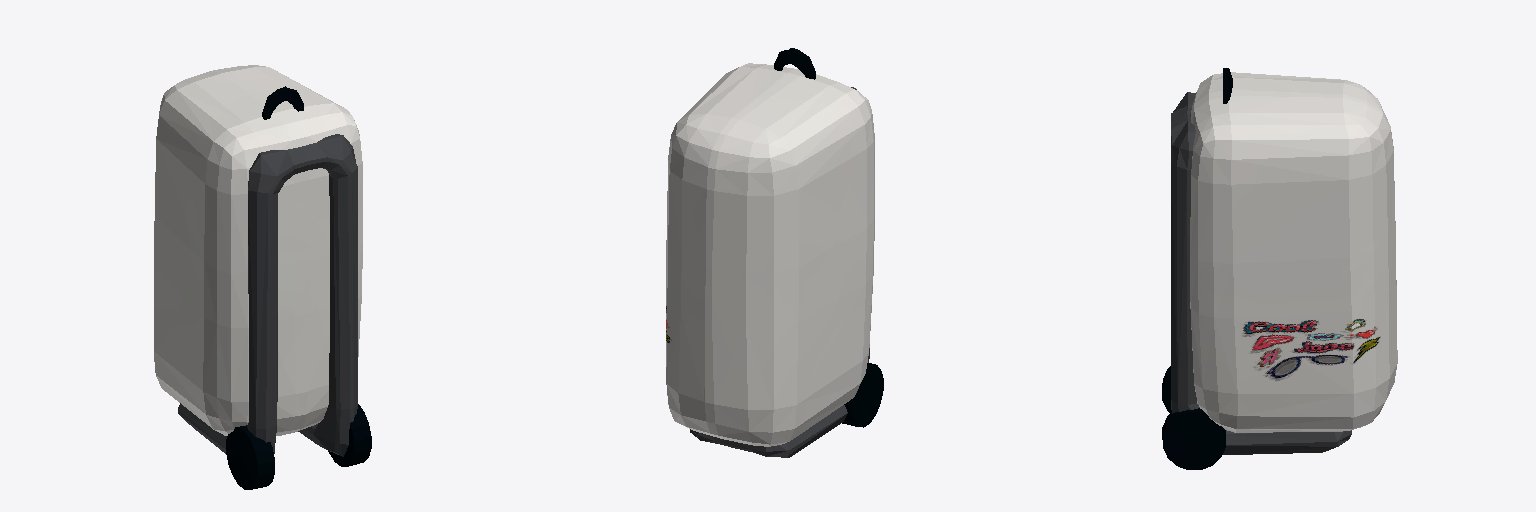
3 renders of one model, left to right at view 1: azimuth 30°, elevation 25°; view 2: azimuth 150°, elevation 25°; view 3: azimuth 270°, elevation 25°, orthographic.
Visible parts, largest first — view 1: Group28010, Group54994, Group35593, Group27995; view 2: Group28010, Group54994, Group35593, Group27995; view 3: Group28010, Group54994, Group35593.
Boxes of the visible parts, <box> form: Group28010: <box>154,65,362,435</box>; Group54994: <box>178,134,357,456</box>; Group35593: <box>226,404,371,489</box>; Group27995: <box>262,86,303,119</box>; Group28010: <box>666,63,874,446</box>; Group54994: <box>690,87,869,457</box>; Group35593: <box>842,363,883,427</box>; Group27995: <box>774,48,815,79</box>; Group28010: <box>1190,72,1397,432</box>; Group54994: <box>1171,92,1351,454</box>; Group35593: <box>1162,366,1225,469</box>.
Bounding box in the file's own units: 2.17 × 5.14 × 2.93.
1 materials, 1 textured.